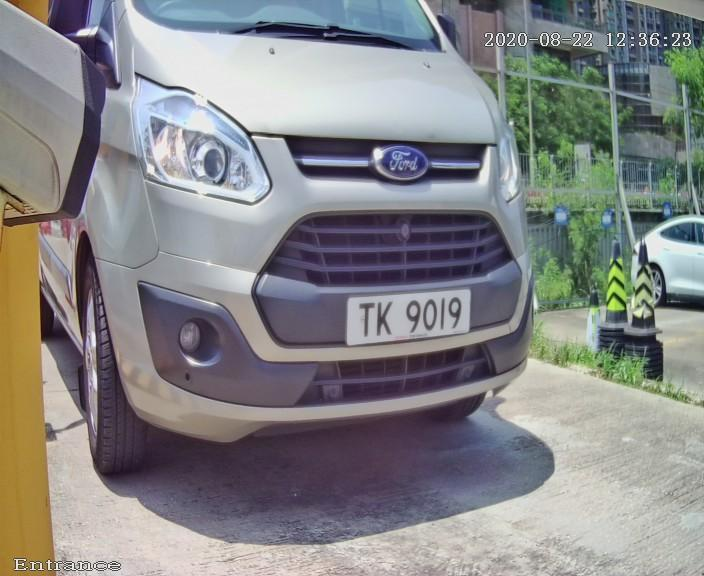Car: (35, 19, 579, 487)
License Plate: (337, 283, 481, 355)
